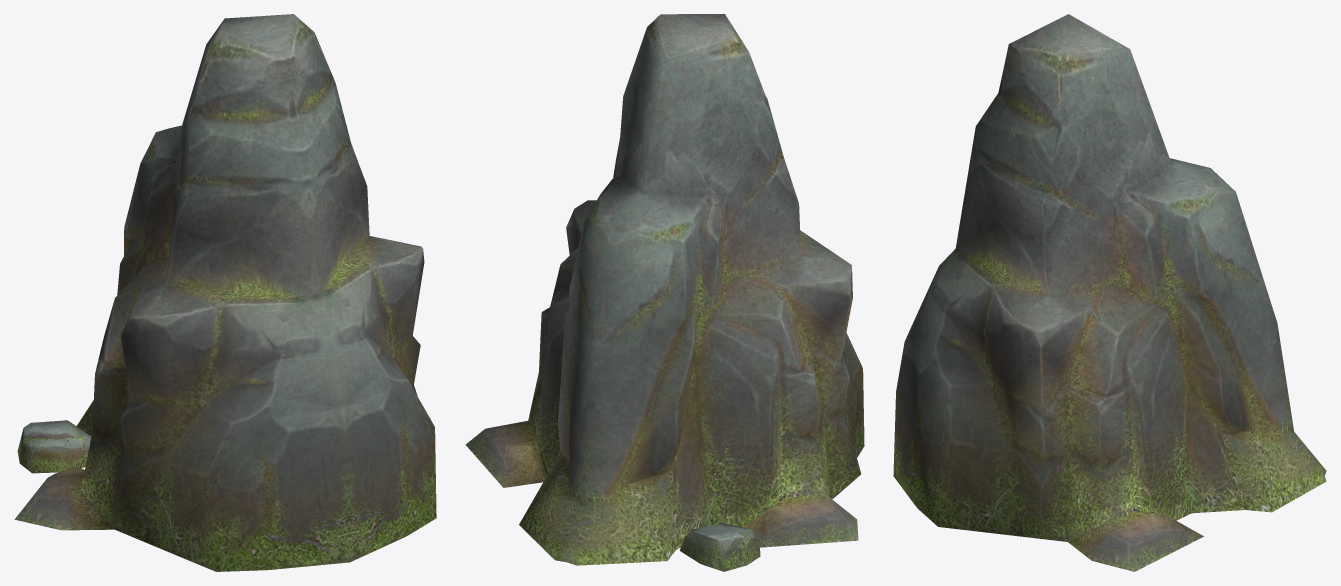
The model's file is wlf_shitou03_w.FBX.
3 views of the same model, side by side, from view 1: azimuth 30°, elevation 25°; view 2: azimuth 150°, elevation 25°; view 3: azimuth 270°, elevation 25° (orthographic). The views are drawn at different scales.
Parts seen in each view (by area): view 1: wlf_shitou03_w; view 2: wlf_shitou03_w; view 3: wlf_shitou03_w.
Boxes of the visible parts, x1,y1,x2,y2 form: wlf_shitou03_w: [14, 14, 436, 571]; wlf_shitou03_w: [465, 14, 864, 571]; wlf_shitou03_w: [893, 14, 1326, 571].
Bounding box in the file's own units: 98.54 × 107 × 94.13.
